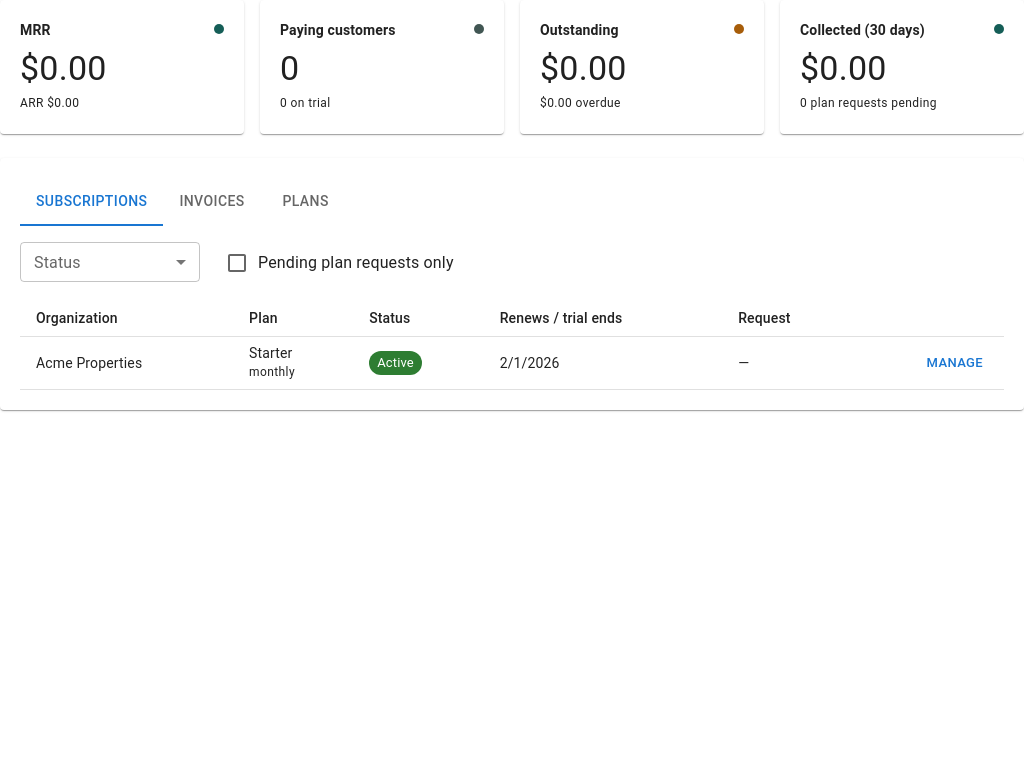
Test: blocks a new plan with a bad code and out-of-range trial days
Step 1. Click the tab "Plans" → x=306, y=202, box [261, 178, 351, 226]
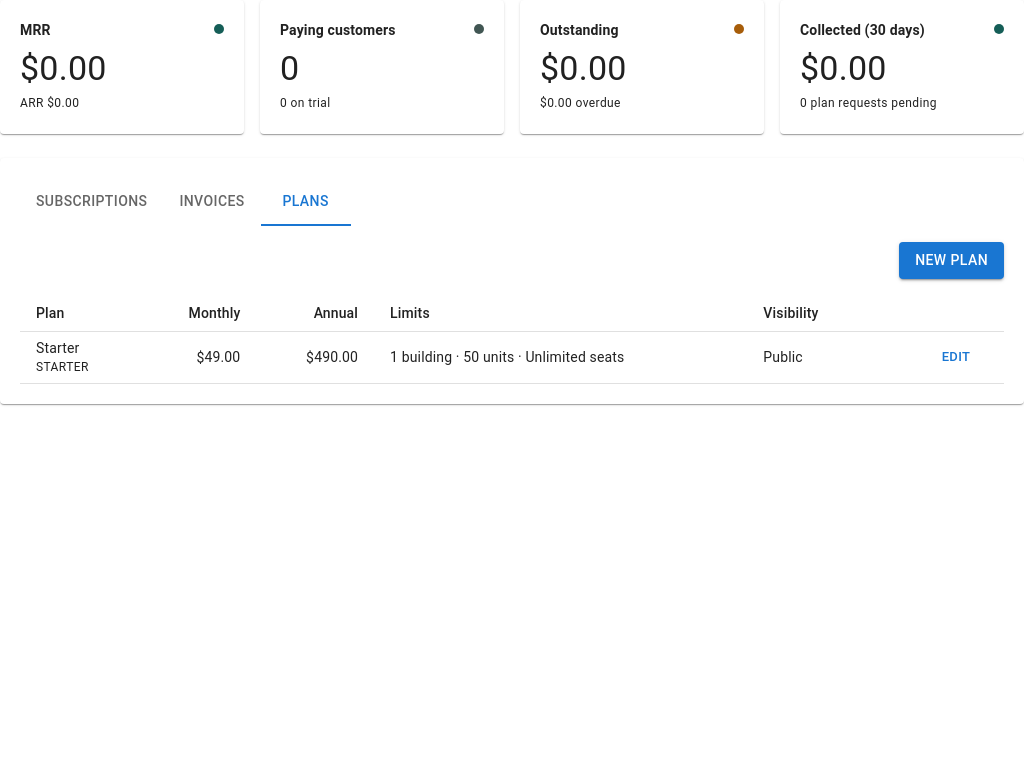
Step 2. Click the button "New plan" → x=952, y=260, box [899, 242, 1004, 278]
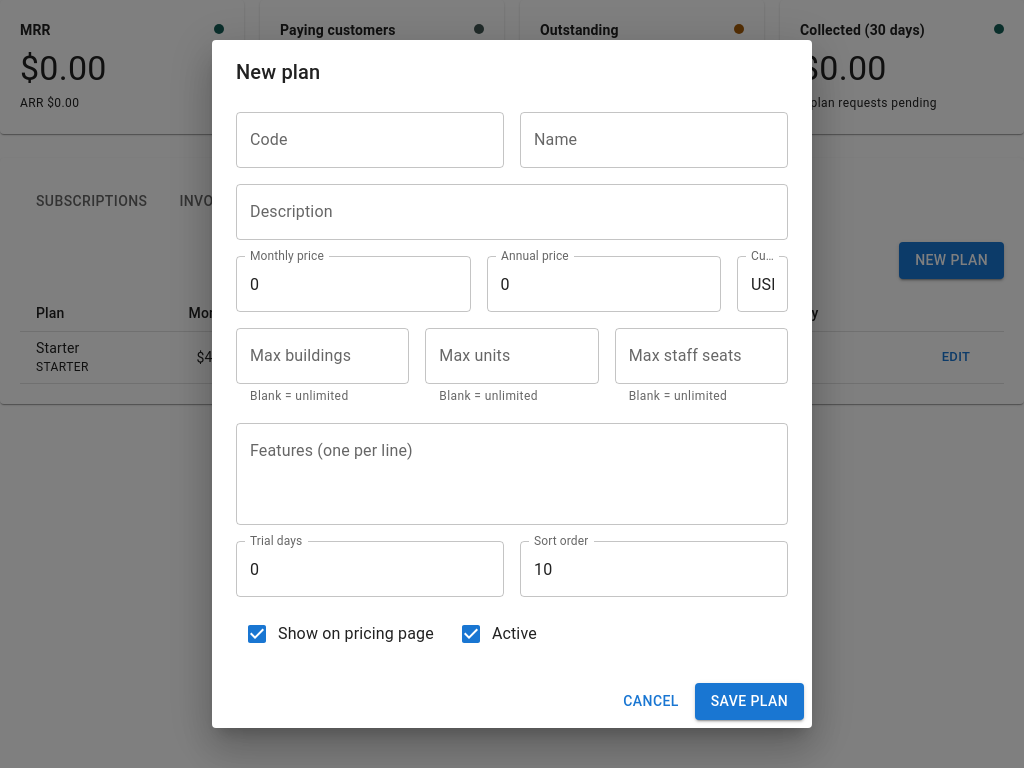
Step 3. Type "a" into the field labelled "Code" → x=370, y=140, box [236, 112, 504, 168]
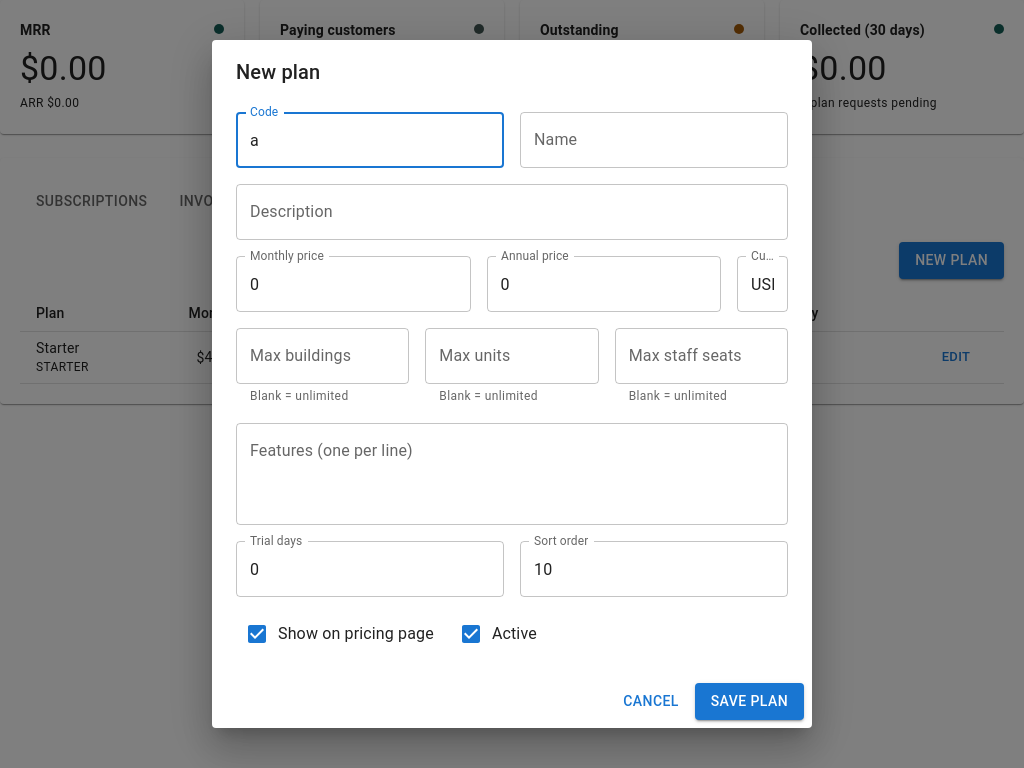
Step 4. Type "Pro" into the field labelled "Name" → x=654, y=140, box [520, 112, 788, 168]
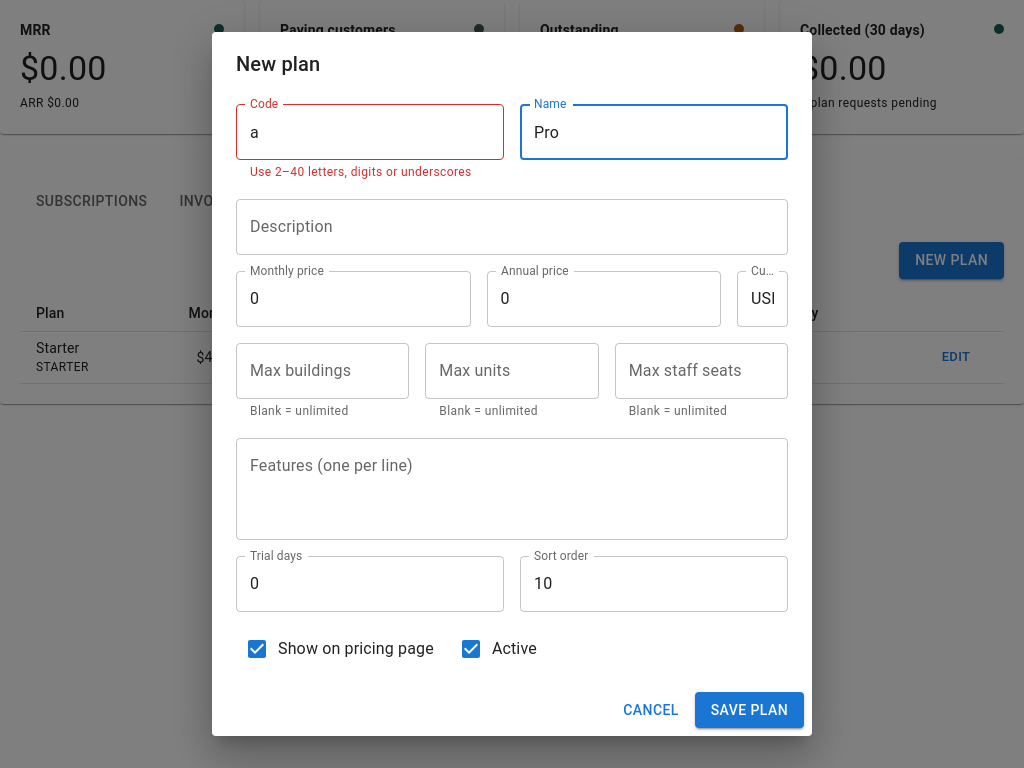
Step 5. Replace the text in the number field labelled "Trial days" with "91" → x=370, y=584, box [236, 556, 504, 612]
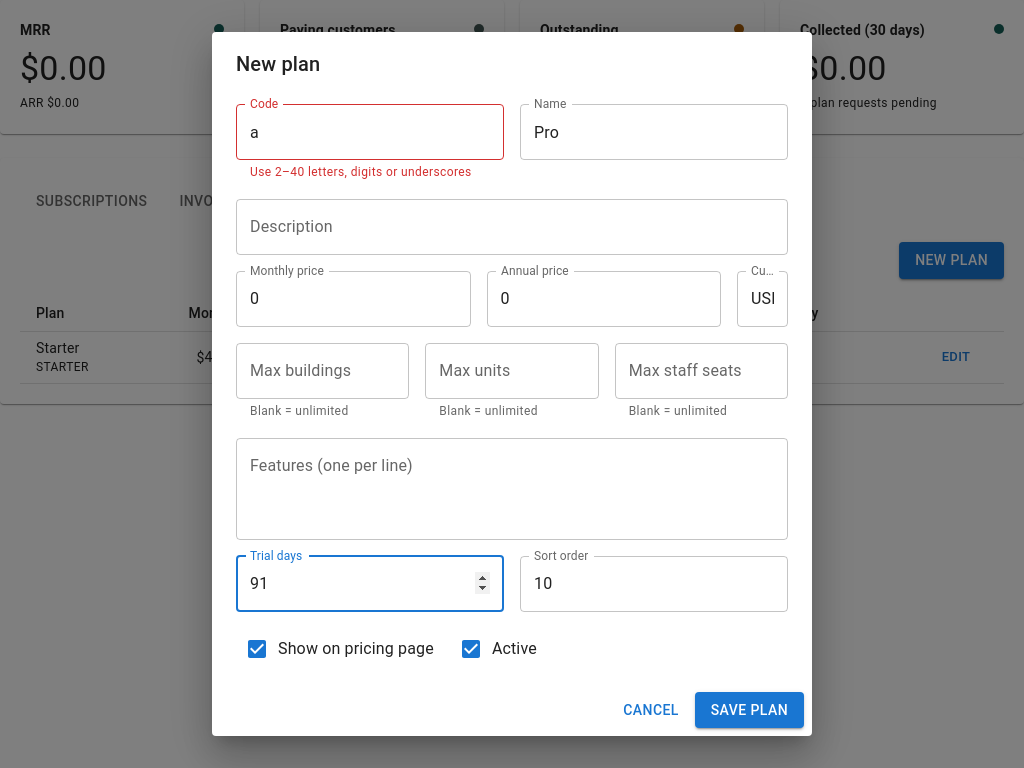
Step 6. Click the button "Save plan" → x=749, y=710, box [695, 692, 804, 728]
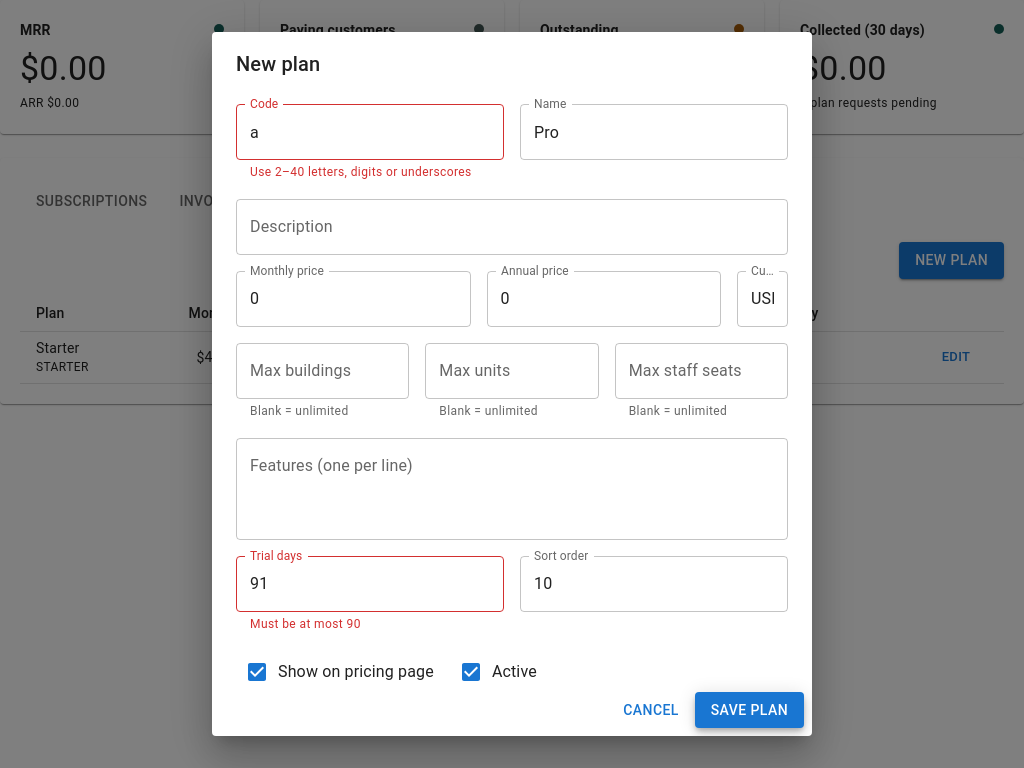
Check: the text "Use 2–40 letters, digits or underscores" is shown, box [250, 163, 490, 183]
Check: the text "Must be at most 90" is shown, box [250, 617, 361, 631]
